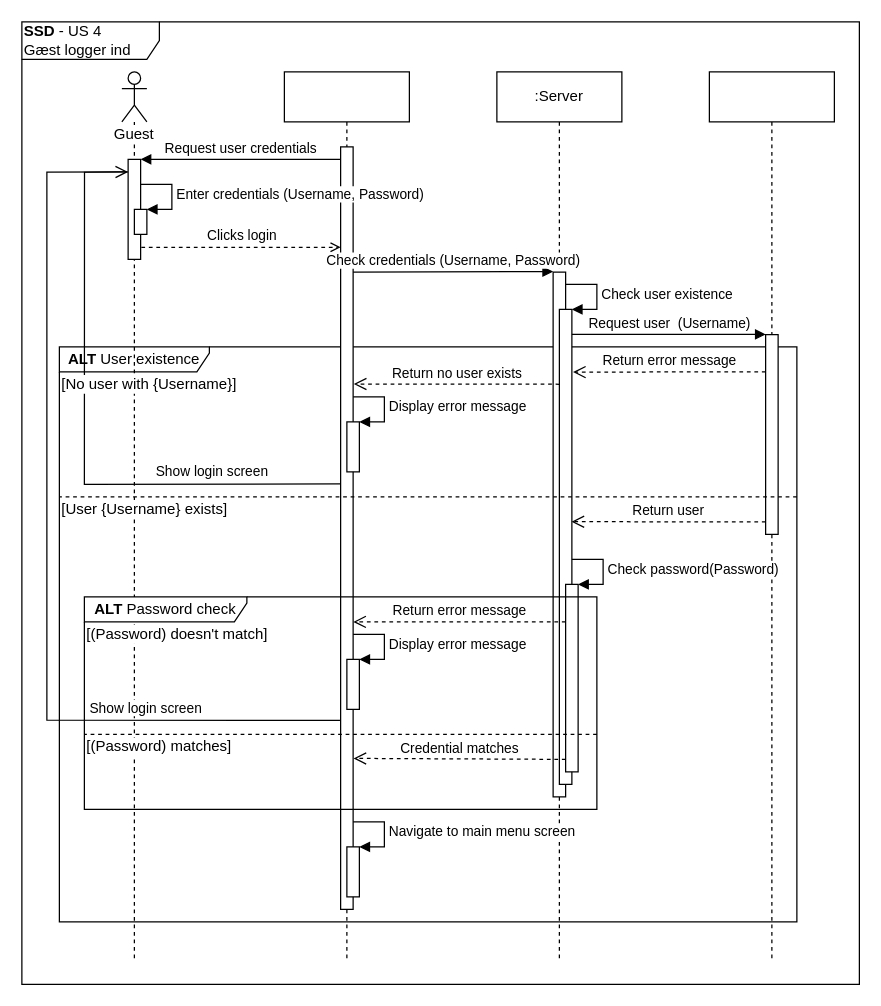
This 881x1006 diagram has some shape labels left out. The box of each missing label's shape, as (x1, y1, x2, y2) in pixels:
:Client: (283, 71, 409, 959)
:Database: (708, 71, 834, 959)
